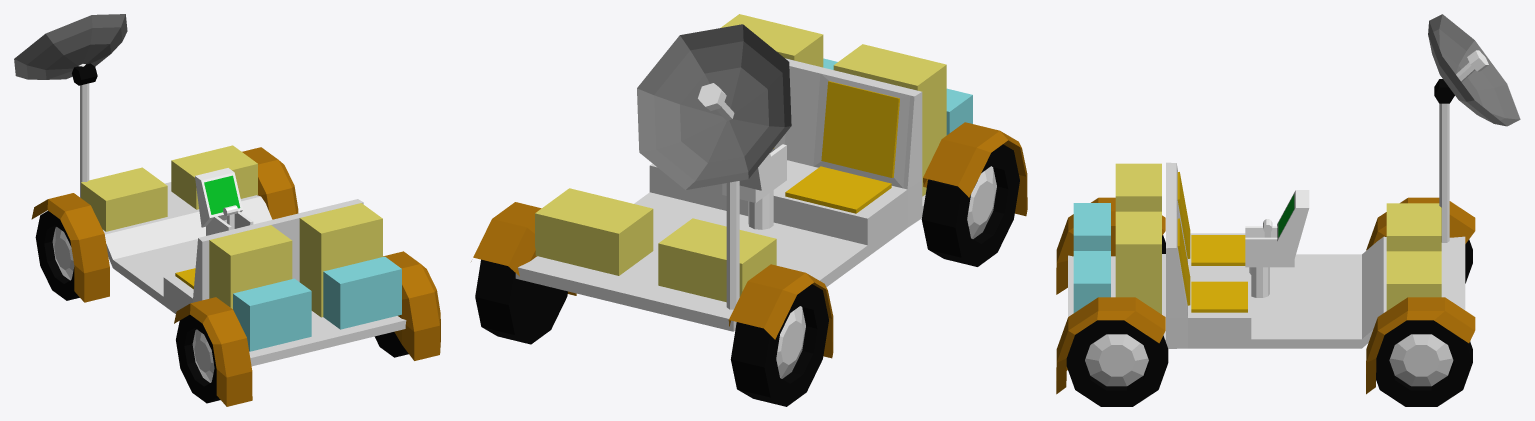
Rendered from lrv.glb.
3 views of the same model, side by side, from view 1: azimuth 30°, elevation 25°; view 2: azimuth 150°, elevation 25°; view 3: azimuth 270°, elevation 25° (orthographic). The views are drawn at different scales.
Parts seen in each view (by area): view 1: Cube, Cylinder.005, Cylinder.006, Cylinder.004, Cube.004, Cube.003, Sphere, Cube.006, Cube.005, Cube.007, Cube.008, Cube.002 (+3 smaller); view 2: Cube, Cylinder.004, Sphere, Cube.008, Cylinder.006, Cube.007, Cube.003, Cylinder.005, Cube.004, Cylinder, Cube.001, Cube.005 (+3 smaller); view 3: Cube, Cylinder.004, Sphere, Cylinder.005, Cylinder.006, Cube.004, Cube.008, Cube.007, Cube.003, Cube.006, Cube.005, Cube.001 (+3 smaller).
Boxes of the visible parts, <box> form: Cube: <box>103,182,406,366</box>; Cylinder.005: <box>174,251,440,406</box>; Cylinder.006: <box>31,147,298,302</box>; Cylinder.004: <box>35,211,408,403</box>; Cube.004: <box>299,203,382,317</box>; Cube.003: <box>209,225,292,308</box>; Sphere: <box>14,14,127,79</box>; Cube.006: <box>323,256,401,329</box>; Cube.005: <box>233,278,311,351</box>; Cube.007: <box>81,167,167,231</box>; Cube.008: <box>171,145,257,209</box>; Cube.002: <box>195,168,242,227</box>; Cube: <box>515,58,925,331</box>; Cylinder.004: <box>475,144,1019,406</box>; Sphere: <box>637,24,791,189</box>; Cube.008: <box>535,188,653,275</box>; Cylinder.006: <box>471,202,833,358</box>; Cube.007: <box>658,218,776,302</box>; Cube.003: <box>833,44,946,196</box>; Cylinder.005: <box>923,122,1027,216</box>; Cube.004: <box>720,14,823,67</box>; Cylinder: <box>726,181,739,309</box>; Cube.001: <box>722,144,786,202</box>; Cube.005: <box>946,88,972,135</box>; Cube: <box>1068,162,1465,348</box>; Cylinder.004: <box>1066,235,1472,406</box>; Sphere: <box>1428,14,1520,126</box>; Cylinder.005: <box>1056,197,1165,394</box>; Cylinder.006: <box>1366,197,1475,394</box>; Cube.004: <box>1115,211,1161,314</box>; Cube.008: <box>1386,251,1441,310</box>; Cube.007: <box>1386,203,1441,251</box>; Cube.003: <box>1115,163,1161,211</box>; Cube.006: <box>1073,251,1110,312</box>; Cube.005: <box>1073,203,1110,250</box>; Cube.001: <box>1245,226,1294,267</box>.
Bounding box in the file's own units: 5.81 × 6.26 × 9.
